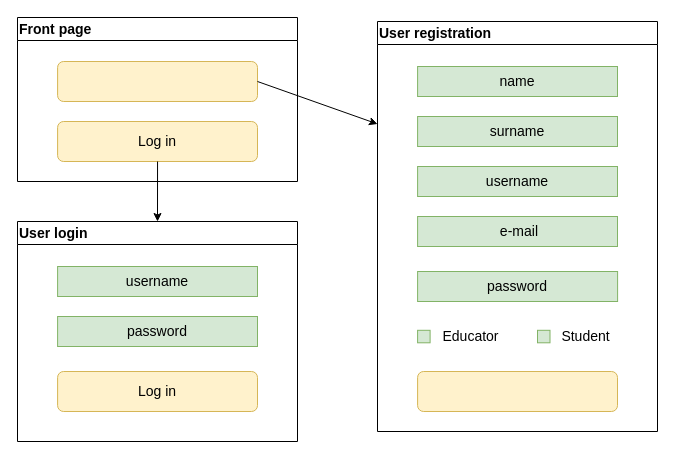
This 675x459 diagram has some shape labels left out. Each missing label, with the centre of its shape:
Sign in: point 157,81
Sign up: point 517,391
